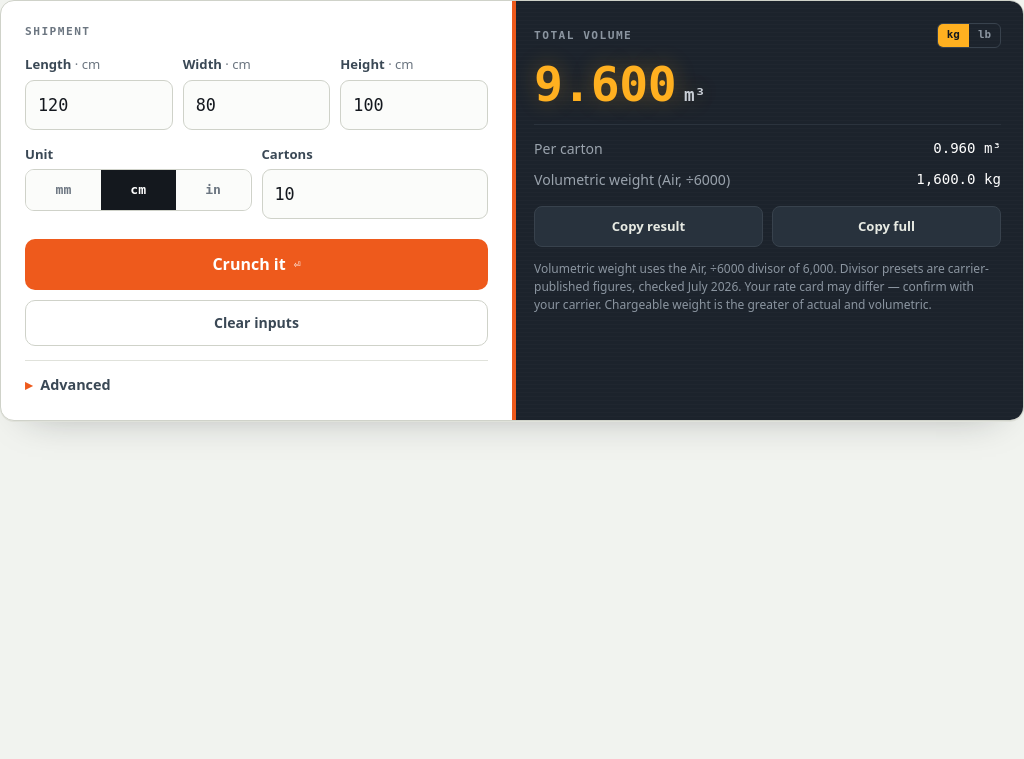
Test: CbmCalculator › entering an actual weight reveals chargeable = max(actual, volumetric)
Click the button "▸ Advanced" at (75, 384), box [25,360,488,396]
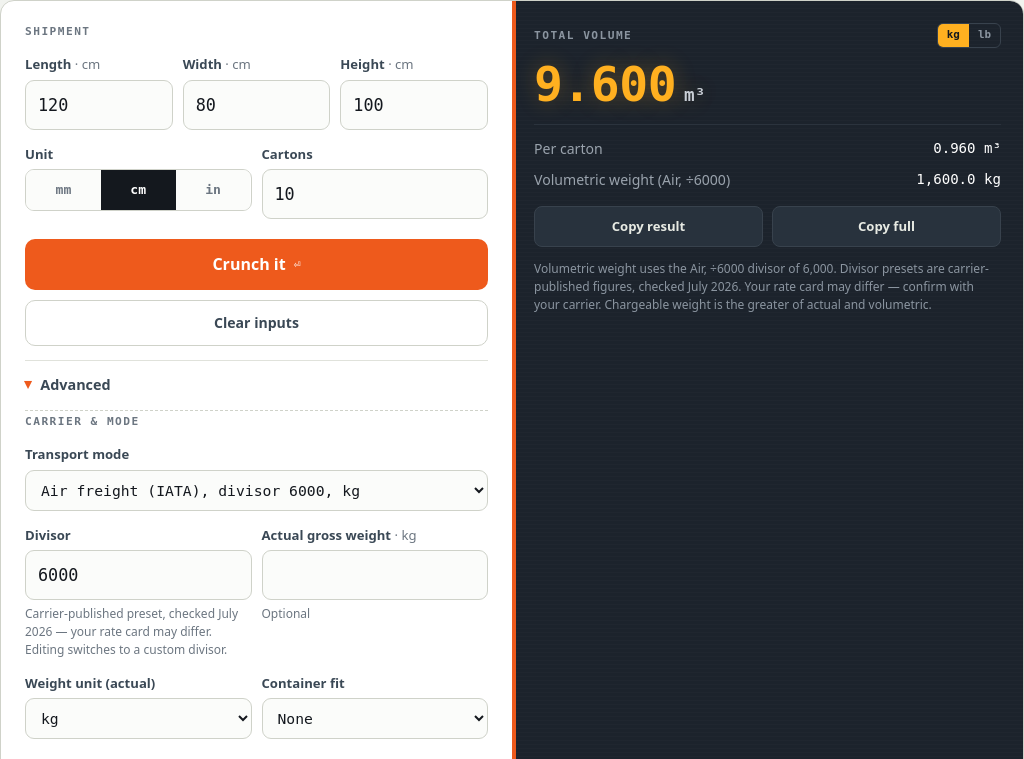
Type "900" into the number field labelled "Actual gross weight" at (375, 575), box [262,550,488,600]
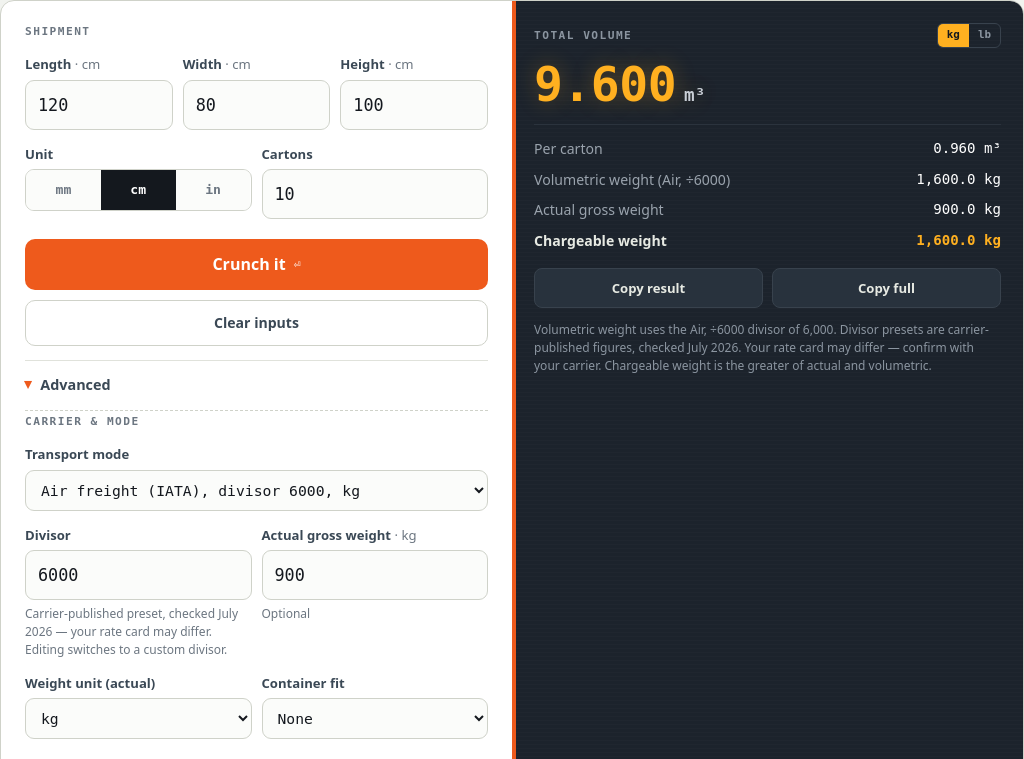
Check: the text with test id "result-AW" reads "900.0 kg", box [933,202,1001,218]
Check: the text with test id "result-CW" reads "1,600.0 kg", box [916,232,1001,248]
Replace the text in the number field labelled "Actual gross weight" with "2000" at (375, 575), box [262,550,488,600]
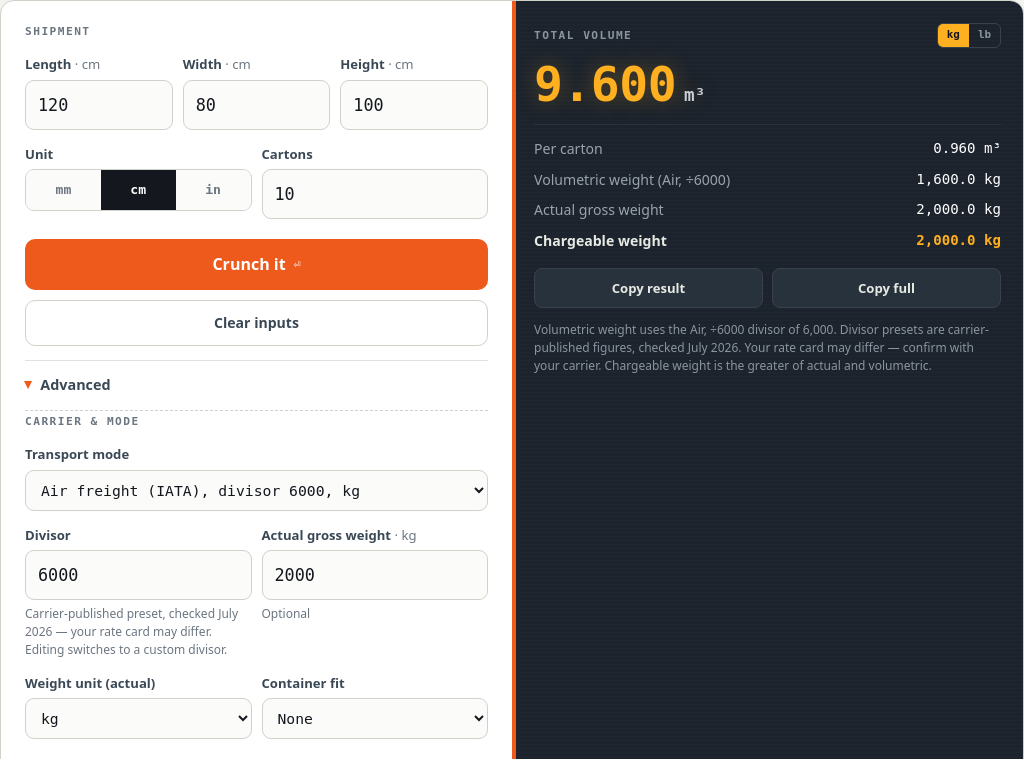
Check: the text with test id "result-CW" reads "2,000.0 kg", box [916,232,1001,248]
